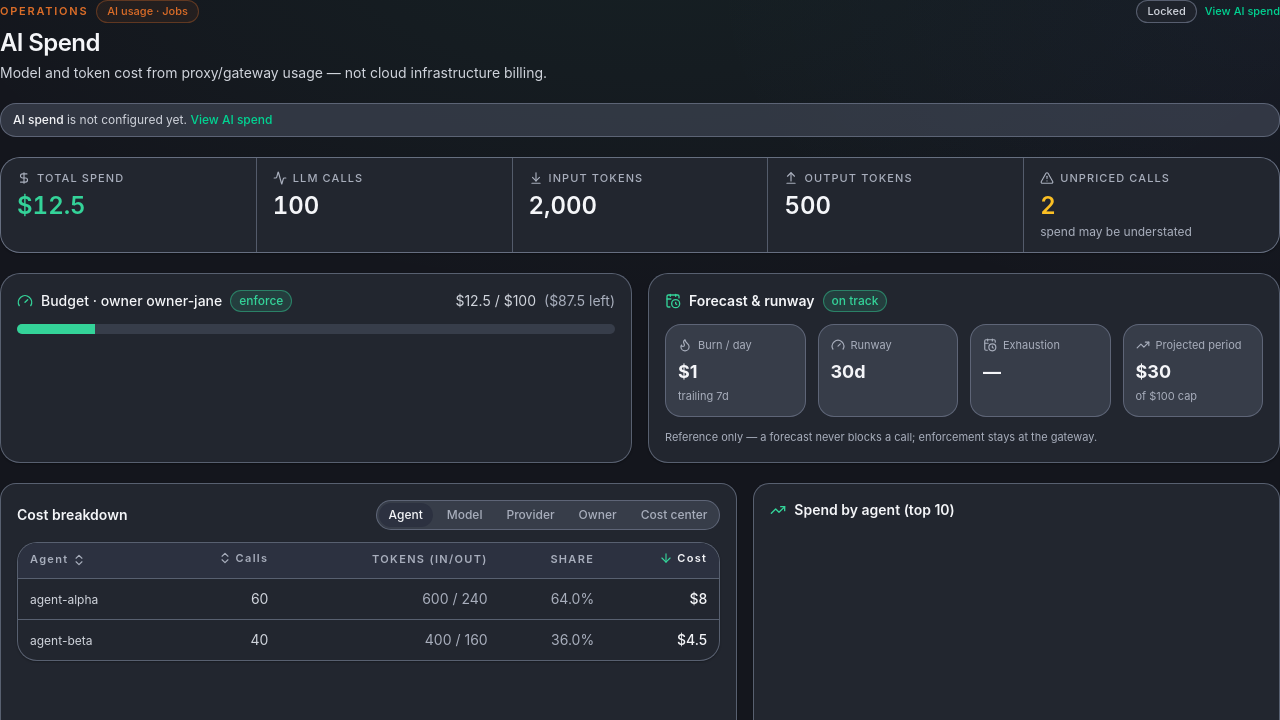
Test: CostPage (dense restyle) › switches breakdown dimension to owner and opens a row drawer
The width and height of the screenshot is (1280, 720).
Expected: the element with test id "cost-kpi-strip" is shown, [0,156,1279,253]
Click the button "Owner" at {"x": 598, "y": 514}, box [569,502,627,526]
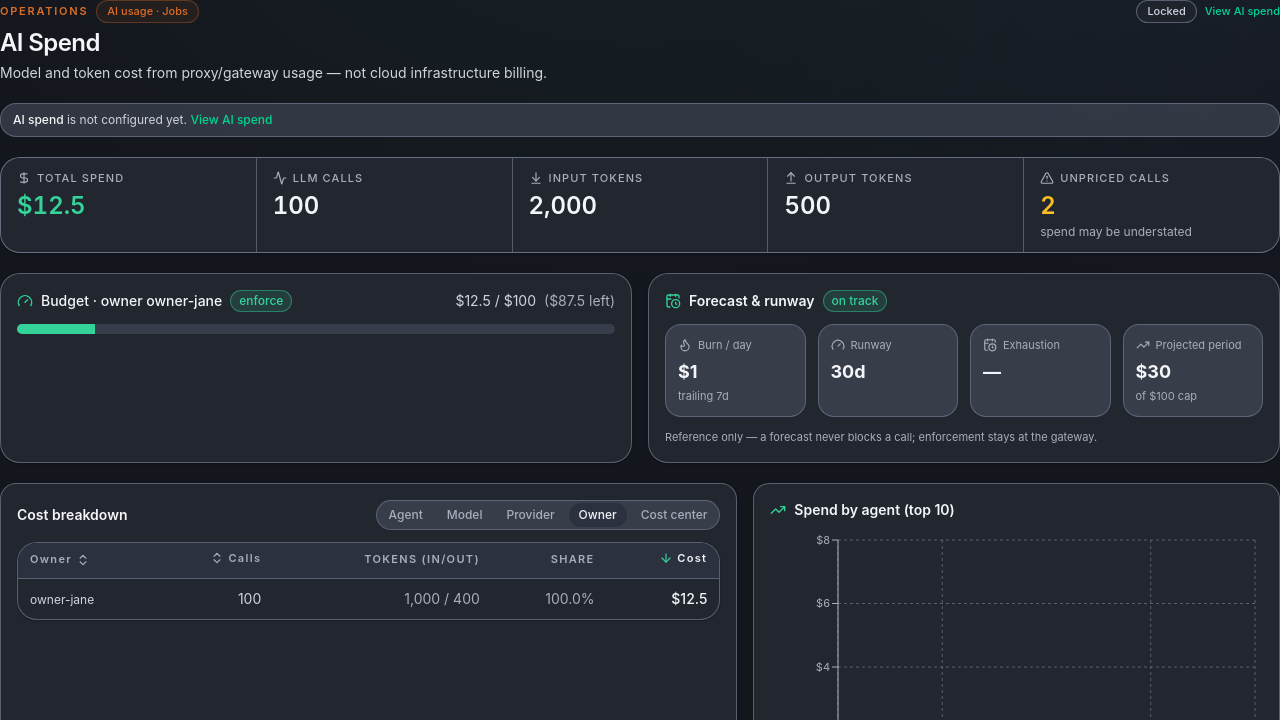
Result: the text "owner-jane" is shown
Click the text "owner-jane" at {"x": 62, "y": 600}, box [30,592,94,607]
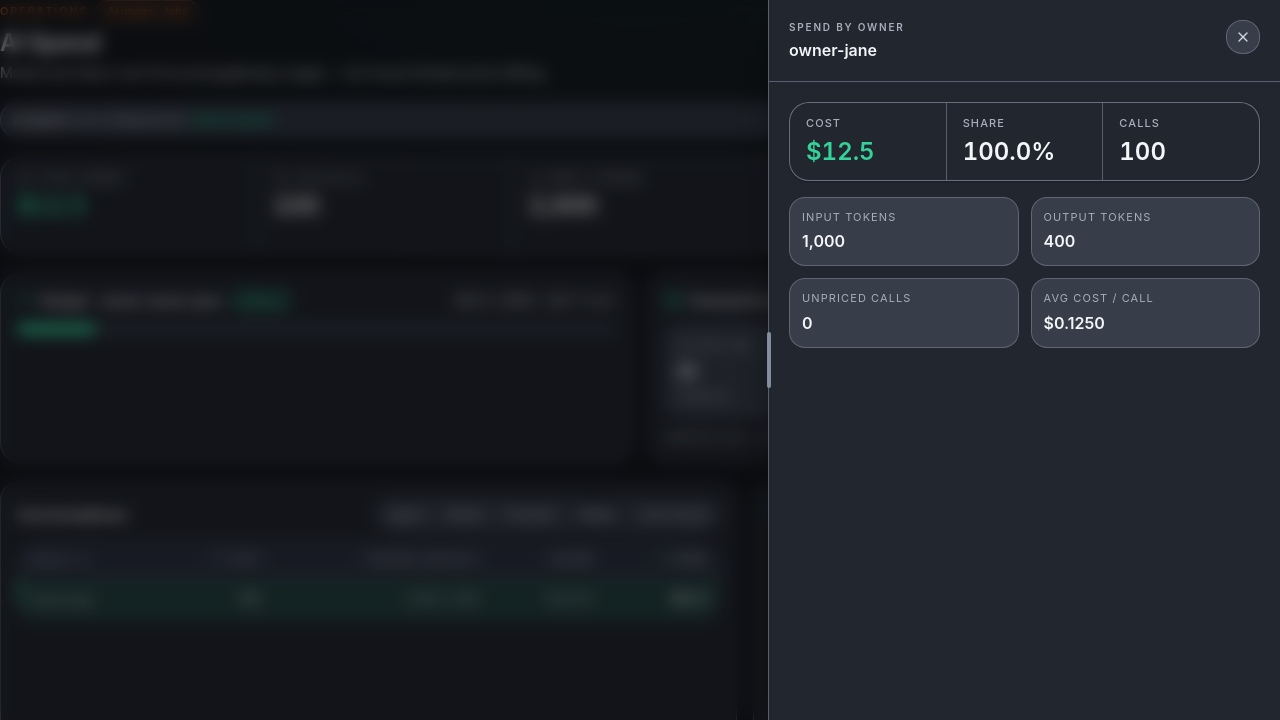
Result: the text "Avg cost / call" is shown at [1044,291,1154,305]
